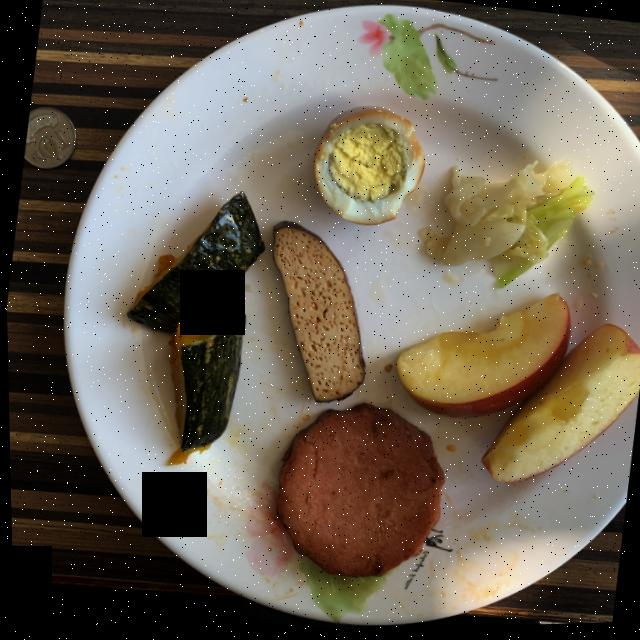Spam: (274, 406, 442, 580)
apple -sliced-: (394, 297, 640, 487)
cabbage: (418, 164, 592, 290)
coin: (22, 107, 75, 169)
firm tofu: (270, 223, 362, 405)
pumpkin: (125, 195, 263, 466)
soy egg: (312, 108, 423, 228)
